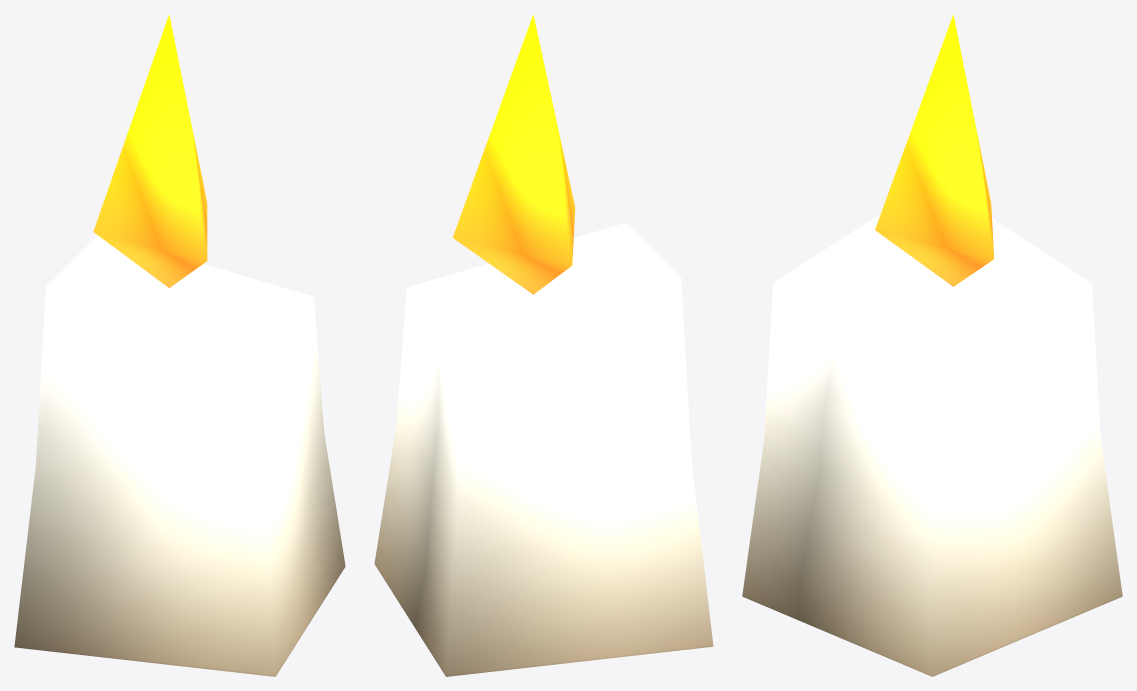
The model's file is deco_cathedral_candle_D.FBX.
3 renders of one model, left to right at view 1: azimuth 30°, elevation 25°; view 2: azimuth 150°, elevation 25°; view 3: azimuth 270°, elevation 25°, orthographic. The views are drawn at different scales.
Visible parts, largest first — view 1: deco_cathedral_candle_D; view 2: deco_cathedral_candle_D; view 3: deco_cathedral_candle_D.
Part boxes in pixels (bbox=[...]): deco_cathedral_candle_D: bbox=[14, 14, 345, 676]; deco_cathedral_candle_D: bbox=[374, 14, 713, 676]; deco_cathedral_candle_D: bbox=[742, 14, 1122, 676].
Size of the model in its own units: 0.3051 by 0.5152 by 0.3051.
Materials: 1 (1 with a texture image).
